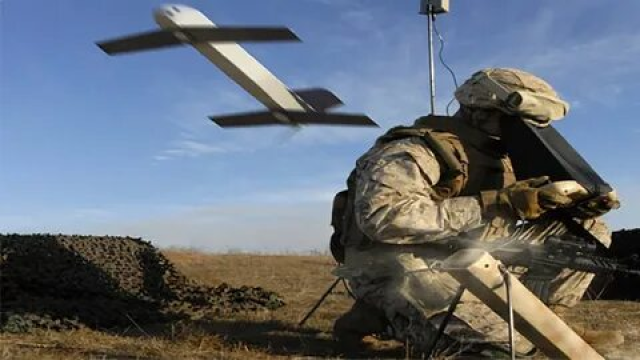military drone: (93, 3, 380, 128)
